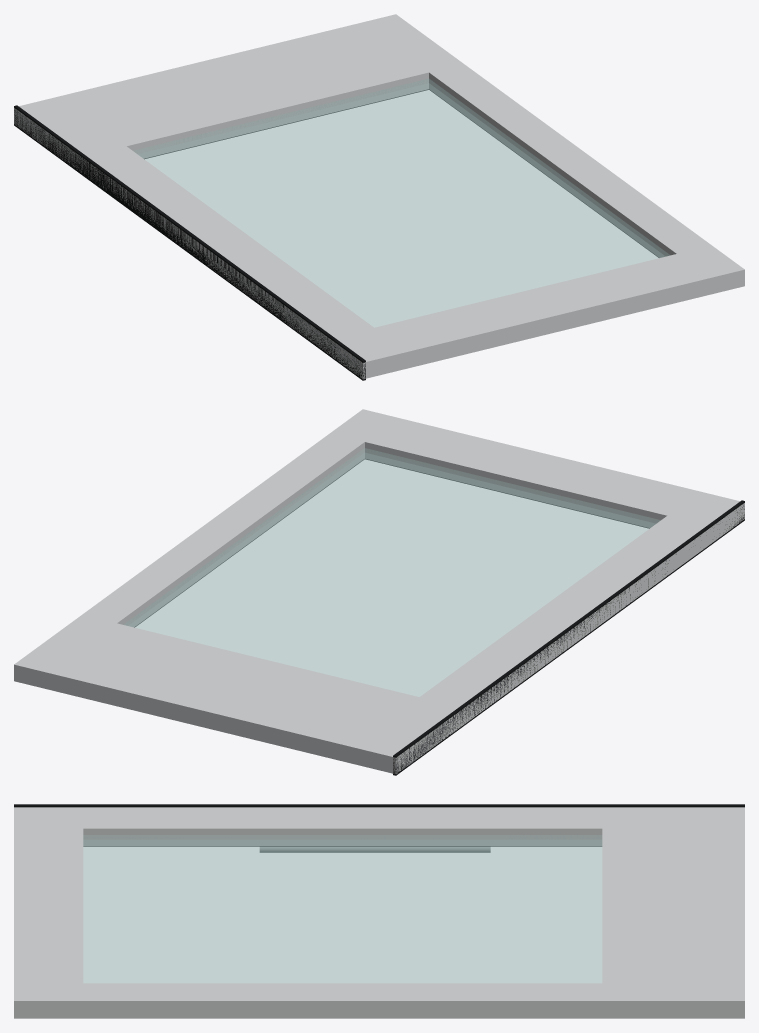
File: front_door_right.obj
3 renders of one model, top to bottom at view 1: azimuth 30°, elevation 25°; view 2: azimuth 150°, elevation 25°; view 3: azimuth 270°, elevation 25°, orthographic. The views are drawn at different scales.
Parts seen in each view (by area): view 1: pane, lower_panel, upper_rail, meeting_stile, outer_stile, seal; view 2: pane, lower_panel, upper_rail, meeting_stile, outer_stile, seal; view 3: pane, lower_panel, meeting_stile, outer_stile, upper_rail, seal, handle, pane_gasket_front.
Part boxes in pixels (box(x1,y1,x2,y2)): pane: box(134, 79, 669, 327); lower_panel: box(14, 14, 463, 172); upper_rail: box(329, 245, 744, 379); meeting_stile: box(82, 146, 373, 353); outer_stile: box(429, 64, 711, 257); seal: box(14, 105, 365, 380); pane: box(124, 448, 660, 696); lower_panel: box(14, 615, 463, 773); upper_rail: box(330, 409, 744, 542); meeting_stile: box(420, 516, 711, 724); outer_stile: box(82, 433, 364, 627); seal: box(393, 500, 744, 775); pane: box(83, 835, 602, 983); lower_panel: box(602, 807, 744, 1018); meeting_stile: box(83, 807, 602, 845); outer_stile: box(83, 983, 602, 1018); upper_rail: box(14, 807, 83, 1018); seal: box(14, 804, 744, 807); handle: box(259, 846, 490, 852); pane_gasket_front: box(83, 846, 601, 846).
Size of the model in its own units: 0.6 by 0.052 by 0.949.
